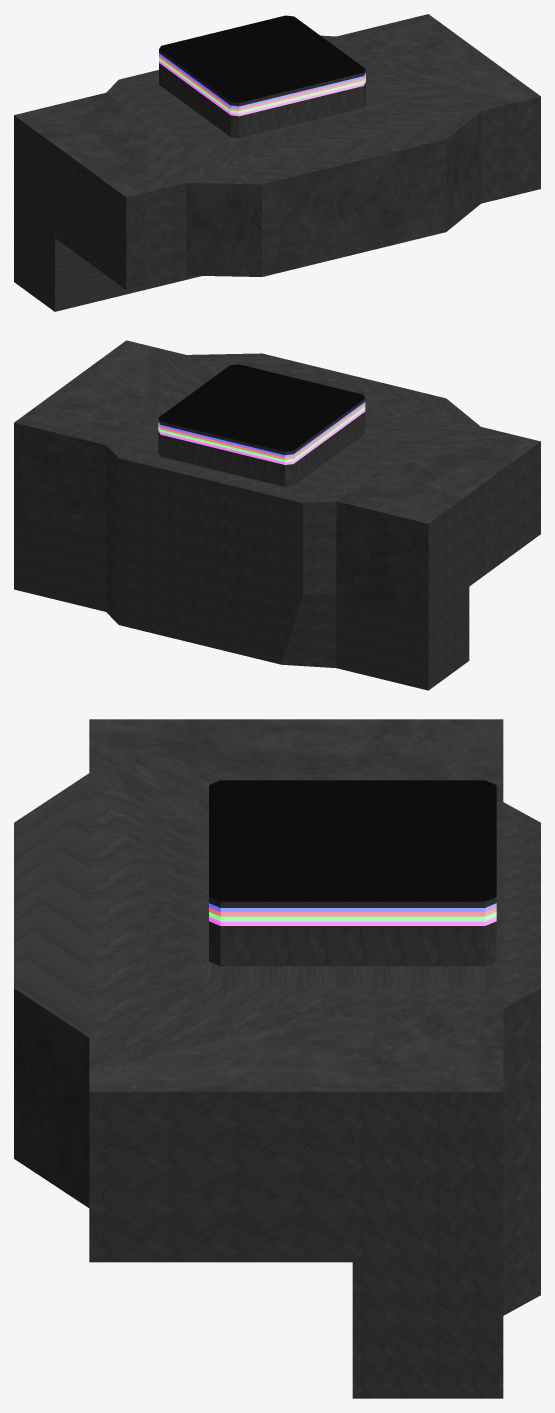
File: Main_Building.glb
3 views of the same model, one above another, from view 1: azimuth 30°, elevation 25°; view 2: azimuth 150°, elevation 25°; view 3: azimuth 270°, elevation 25° (orthographic). The views are drawn at different scales.
Visible parts, largest first — view 1: Main Building.002; view 2: Main Building.002; view 3: Main Building.002.
Part boxes in pixels (<box>): Main Building.002: <box>14,14,540,311</box>; Main Building.002: <box>14,340,540,690</box>; Main Building.002: <box>14,719,540,1398</box>.
Size of what is drawn, in the model's own units: 23.4 by 10.9 by 14.
7 materials, 2 textured.
